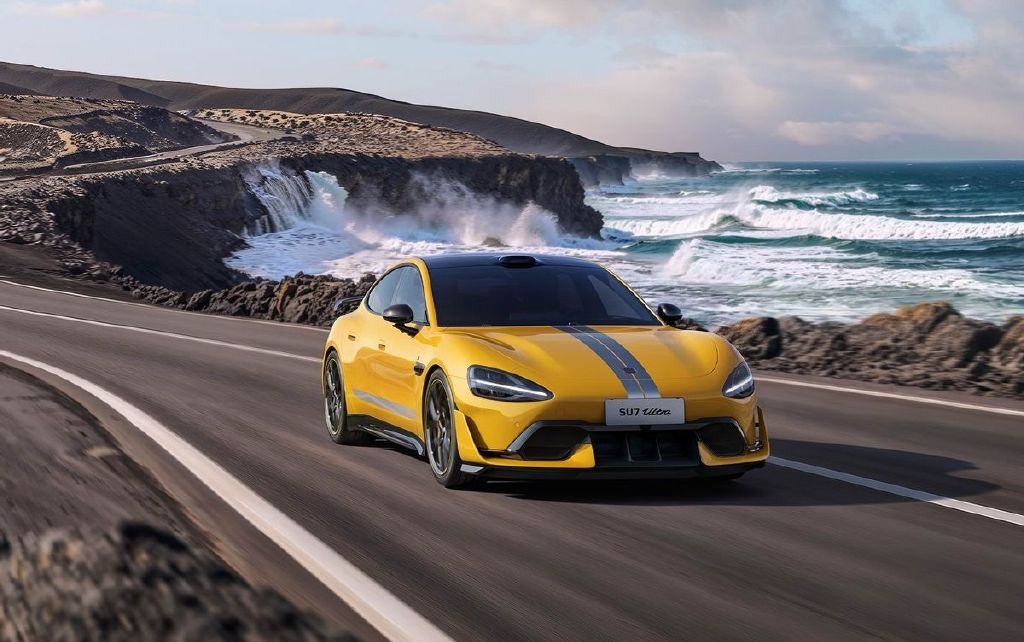su7: (324, 249, 771, 489)
